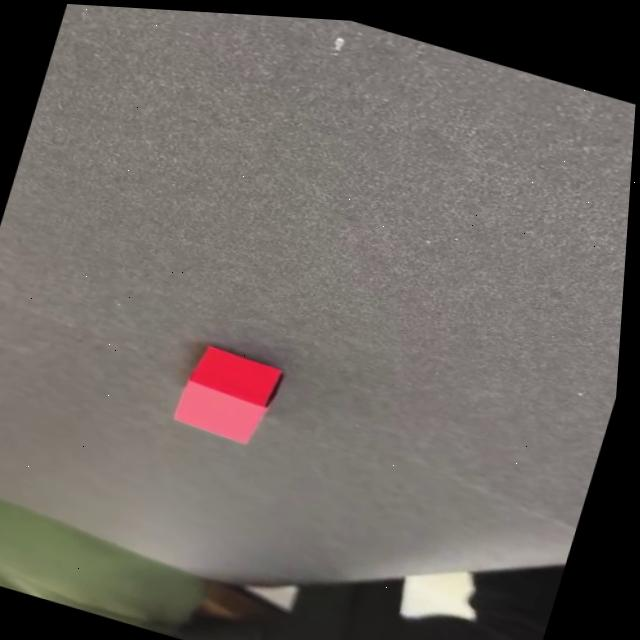red block: (168, 339, 289, 451)
